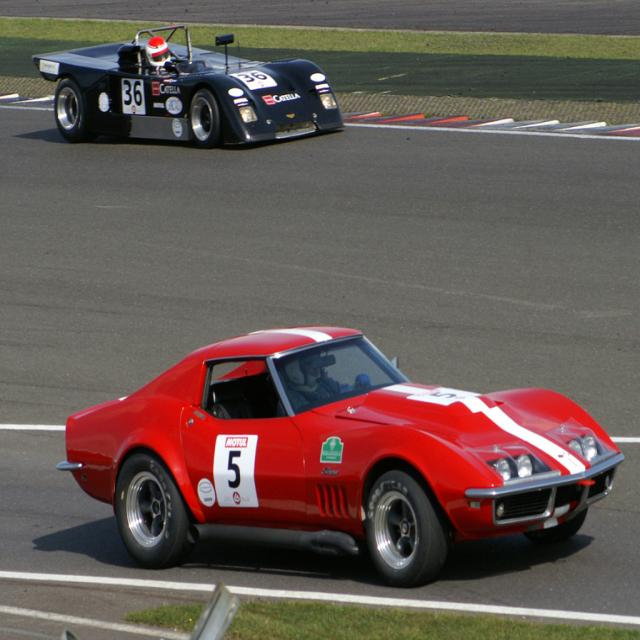Passenger Car: (65, 326, 624, 592), (33, 23, 344, 149)
